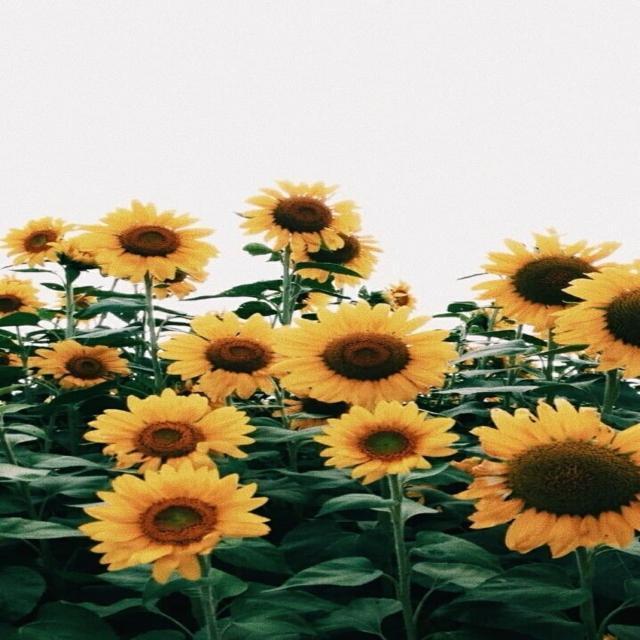sunflower: (451, 396, 639, 558), (74, 462, 272, 584), (268, 299, 459, 406), (469, 227, 621, 332), (82, 388, 257, 476), (312, 400, 461, 484), (74, 199, 218, 284), (156, 309, 288, 400), (549, 263, 640, 378), (238, 178, 360, 256), (289, 226, 382, 286), (27, 338, 131, 389), (1, 215, 74, 268), (271, 398, 360, 429), (0, 274, 44, 318), (168, 378, 225, 411), (486, 352, 540, 379), (51, 290, 98, 321), (46, 240, 96, 268), (151, 269, 196, 300), (381, 280, 416, 310), (480, 308, 518, 330), (296, 292, 334, 314), (454, 346, 476, 366), (1, 350, 24, 368)
